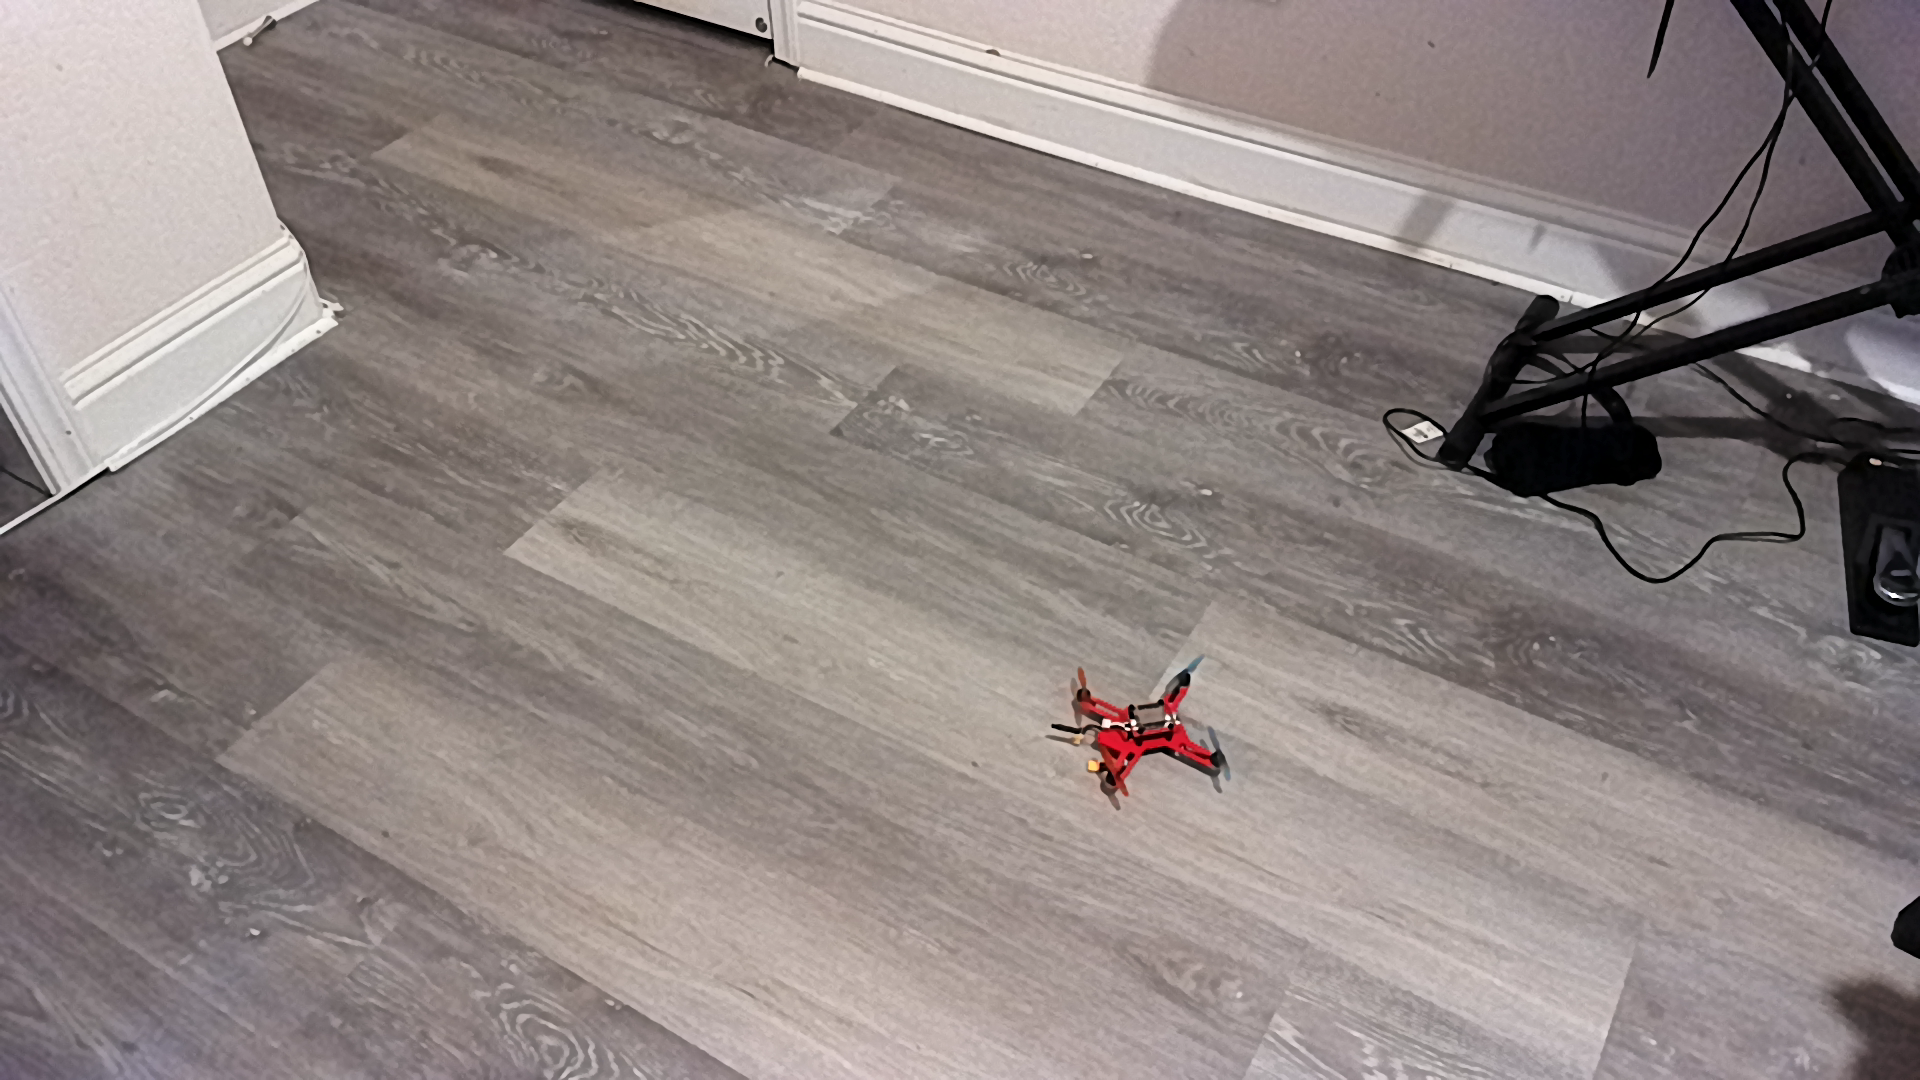drone: (1054, 654, 1249, 819)
